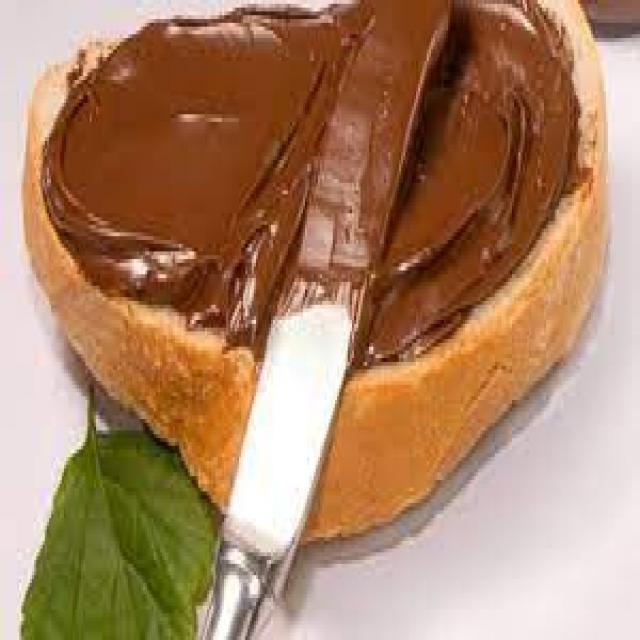Spread: (51, 23, 573, 339)
